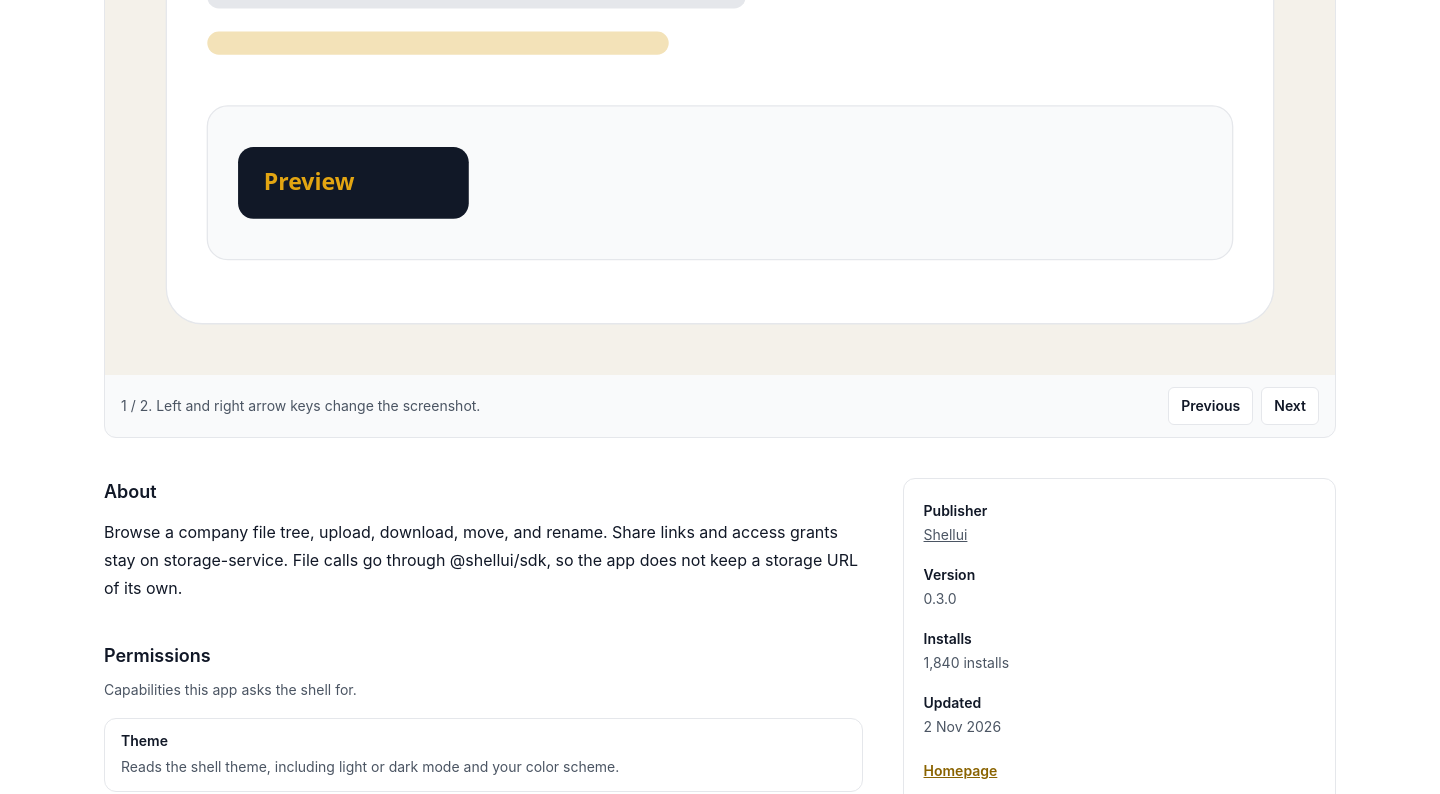
app detail › shows the description, permissions, and screenshot controls
(page scrolled)
Expected: the text "File calls go through @shellui/sdk" is shown, 104,522 -> 858,598
Expected: the heading "Permissions" is shown, 104,645 -> 211,666
Click the button with aria-label "Next screenshot": coordinates (1290, 406) 1261,387 -> 1319,425
(page scrolled)
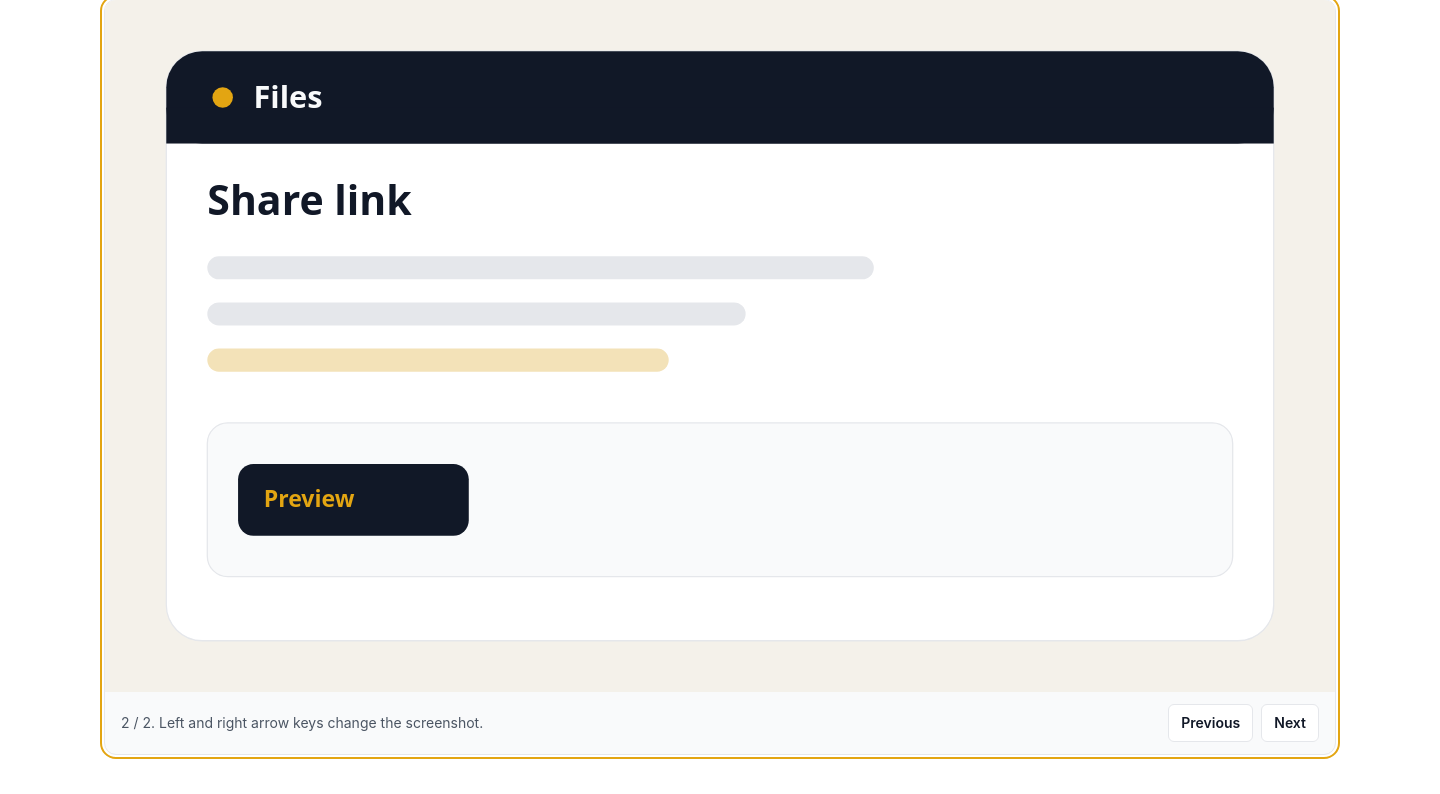
Result: the picture named "Files preview: a share link" is shown
Press Arrowright
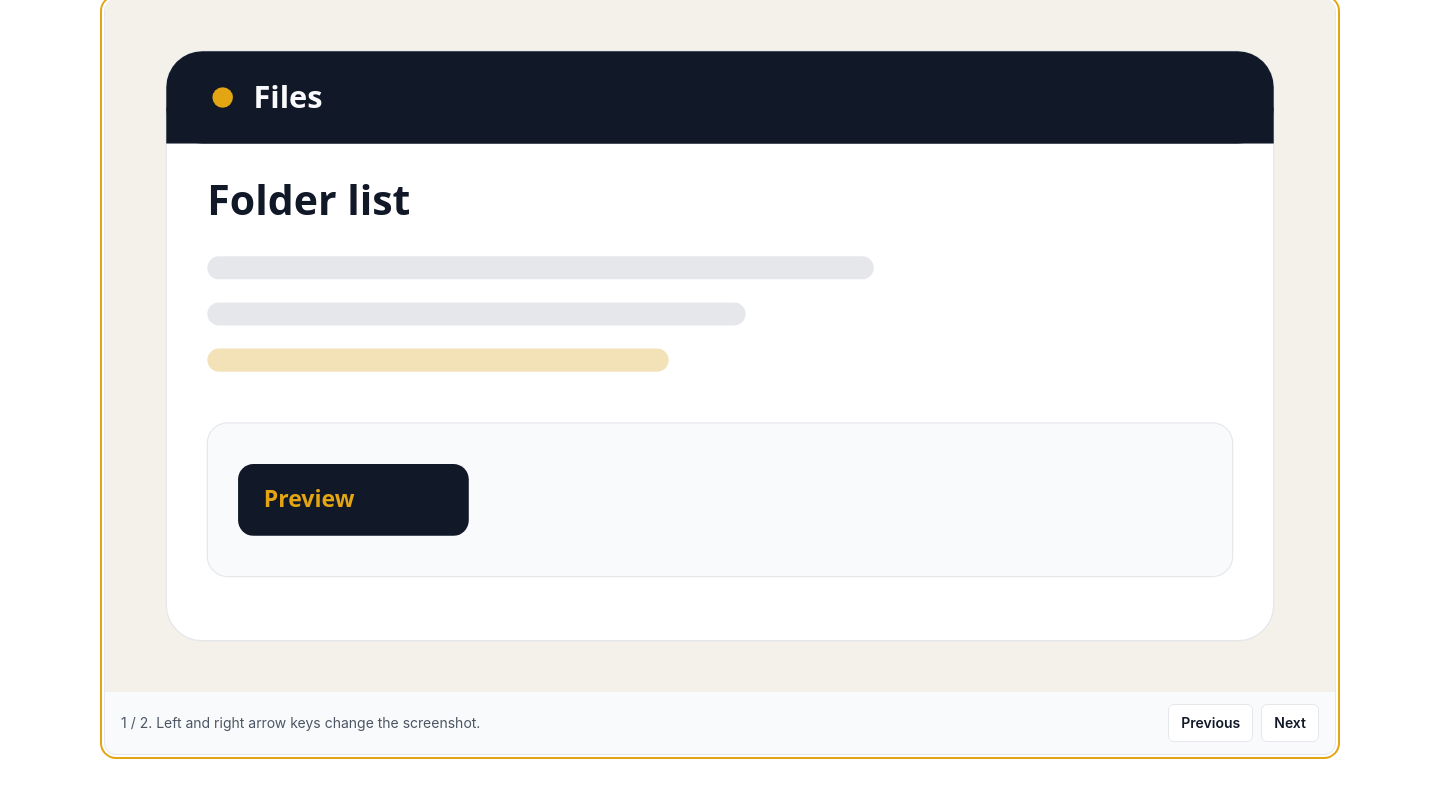
Result: the picture named "Files preview: a folder list" is shown
